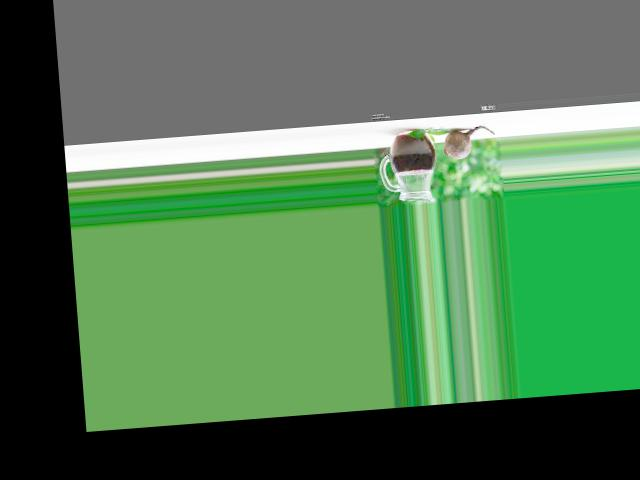beet: (441, 124, 495, 159)
